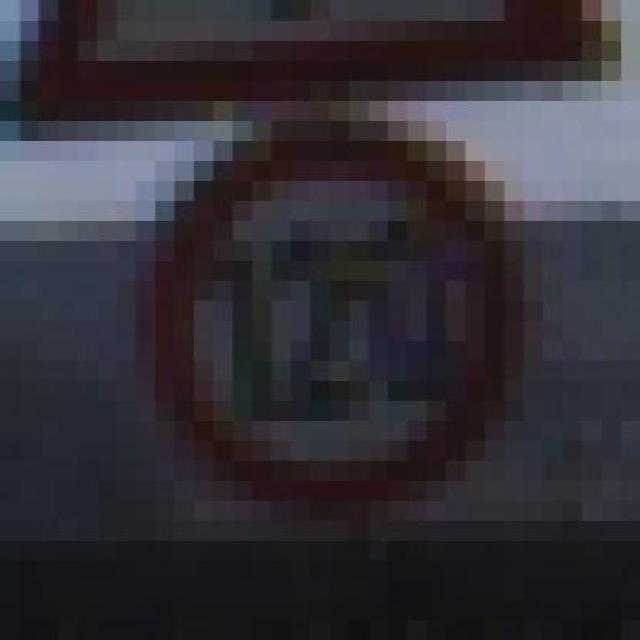forb_speed_over_120: (152, 128, 512, 508)
